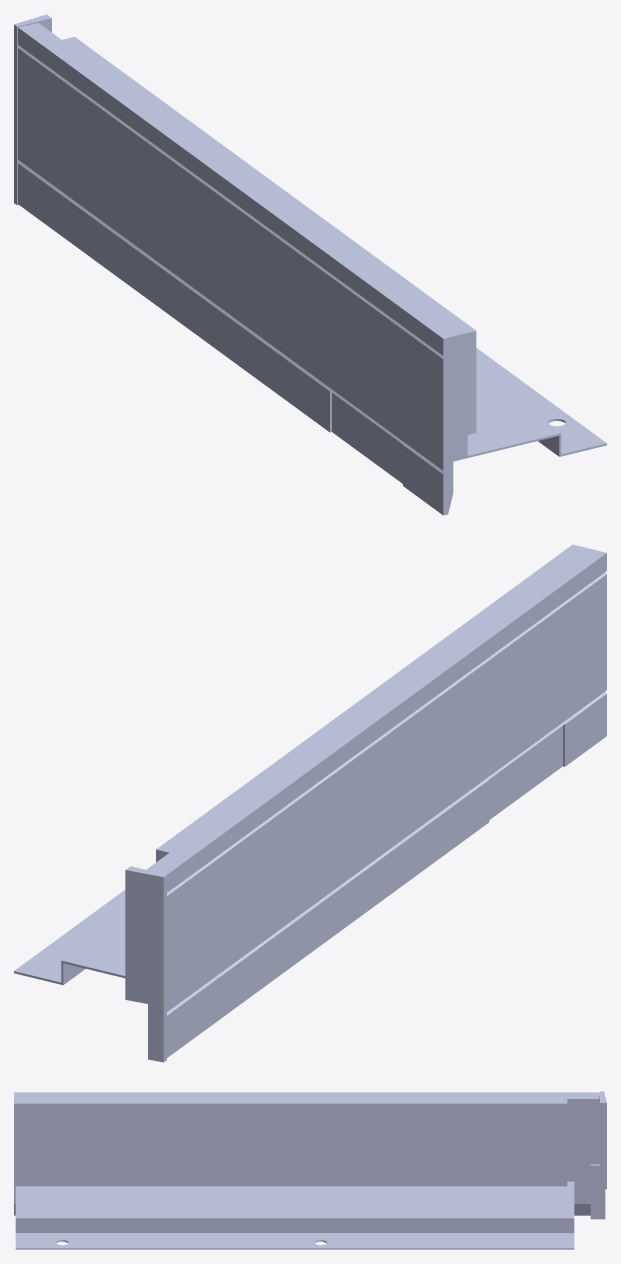
The model's file is lg-kava-N300-p.glb.
The picture shows the model from 3 angles, top to bottom: view 1: azimuth 30°, elevation 25°; view 2: azimuth 150°, elevation 25°; view 3: azimuth 270°, elevation 25°; orthographic projection. The views are drawn at different scales.
Parts seen in each view (by area): view 1: 43547755; view 2: 43547755; view 3: 43547755.
Part boxes in pixels (x1=…): 43547755: x1=14, y1=14, x2=606, y2=515; 43547755: x1=14, y1=544, x2=606, y2=1062; 43547755: x1=14, y1=1091, x2=606, y2=1249.
Size of the model in its own units: 0.0653 by 0.0672 by 0.2935.
